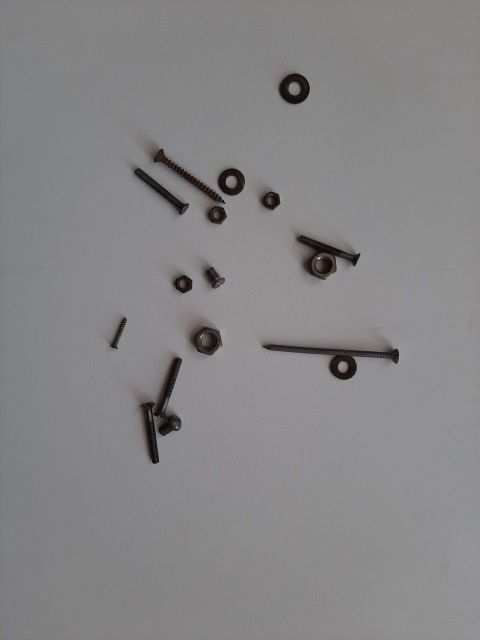gwozdz: (245, 305, 395, 365)
nakretka: (185, 185, 235, 235), (185, 305, 235, 355), (245, 175, 295, 215), (155, 265, 185, 295)
podkladka: (245, 35, 325, 105), (305, 325, 355, 385), (205, 155, 245, 205)
sruba: (275, 215, 365, 275), (135, 325, 185, 415), (125, 155, 185, 215), (125, 385, 155, 475), (185, 245, 235, 295)
